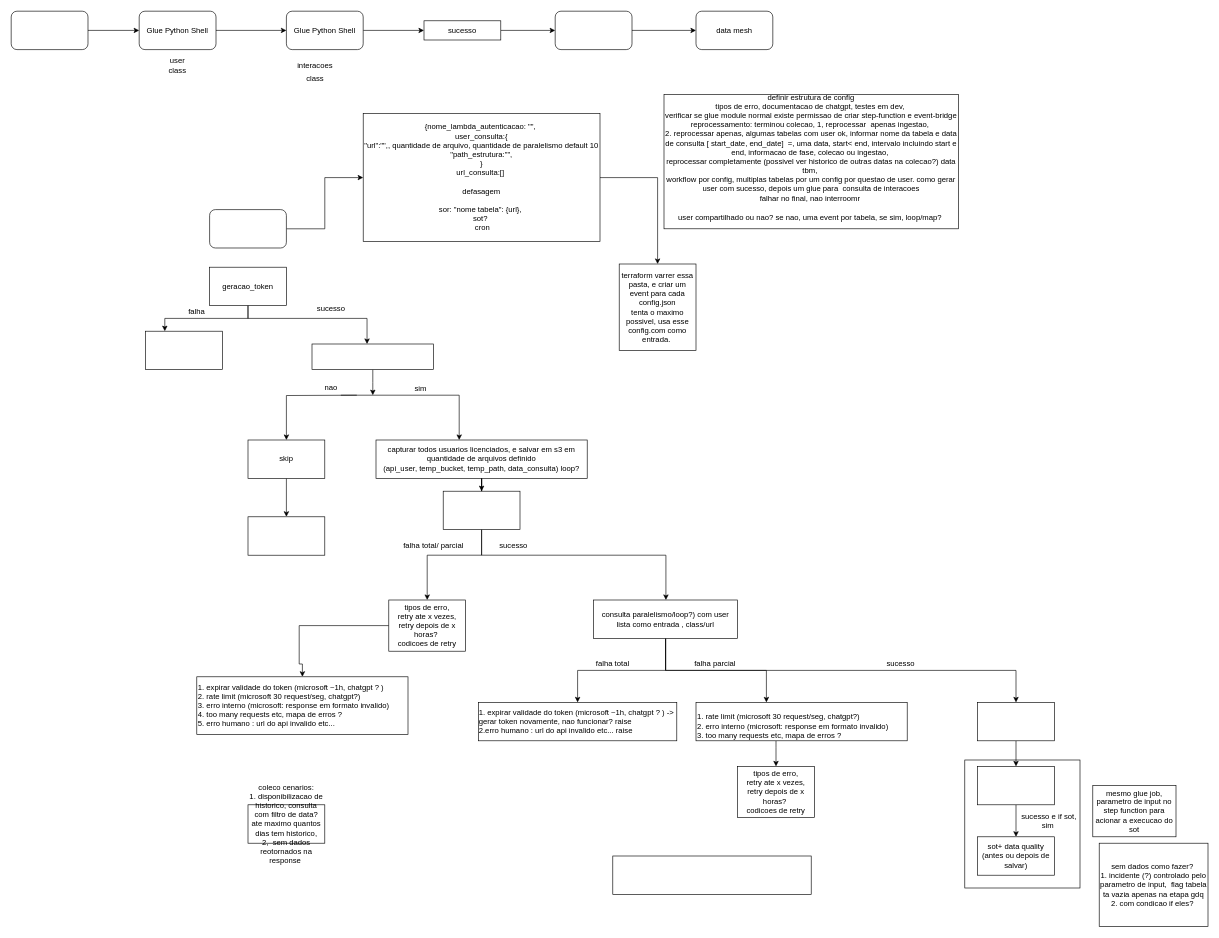
The diagram is 1219 pixels wide and 938 high, and some of its shapes have lost their labels. Here are the shapes that lost their labels. From the top down, the centre of each, then its label:
point (49, 30): event-bridge
point (593, 30): Glue spark
point (247, 228): ler nome_tabela.json
point (372, 356): existir parametro api_list_users?
point (481, 510): validacao de resultado.
point (286, 535): forma de consulta sem user (class)
point (1015, 721): save no temp
point (1015, 785): sor+ data quality (antes ou depois de salvar)
point (711, 874): reprocessar d-1 referente a data de consulta?
